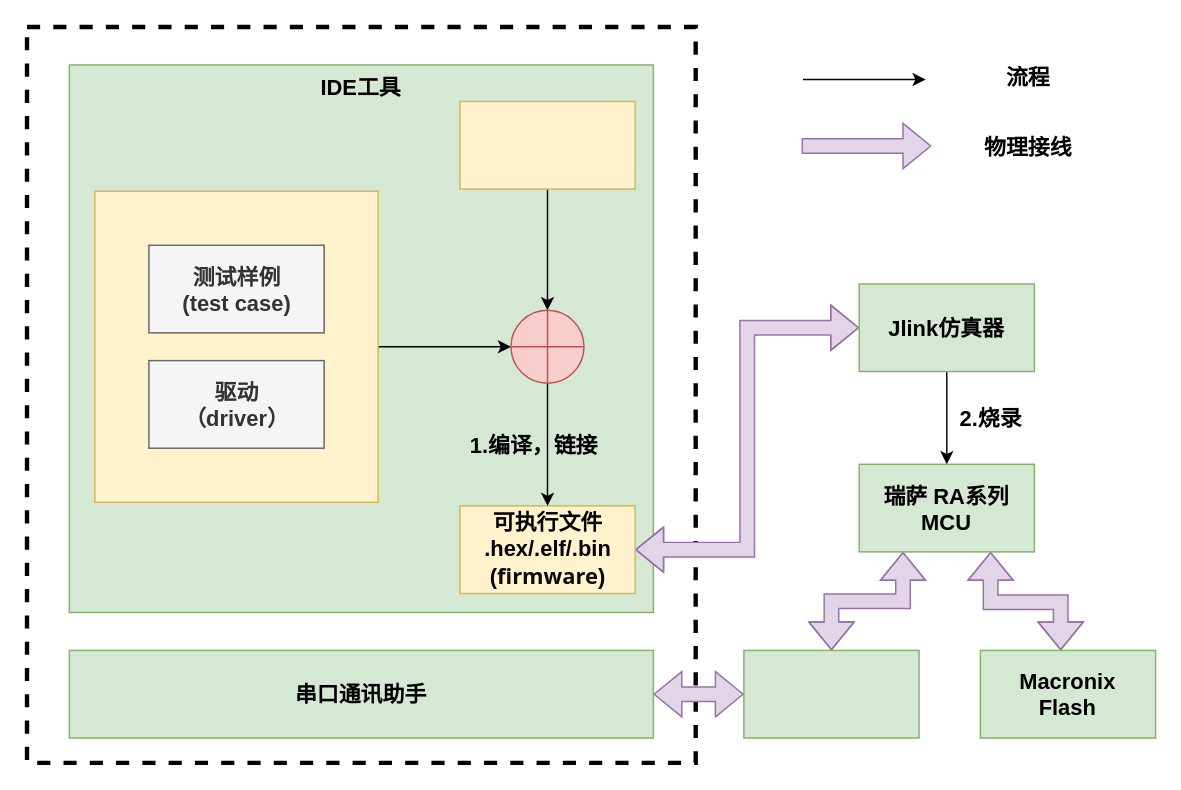
The diagram is 1181 pixels wide and 790 high, and some of its shapes have lost their labels. Each missing label, with the box of its shape:
PC: (24, 24, 697, 764)
UART转串口模块: (742, 649, 919, 738)
测试工程 .c/.h: (93, 190, 378, 502)
编译器，链接器: (458, 100, 635, 189)
